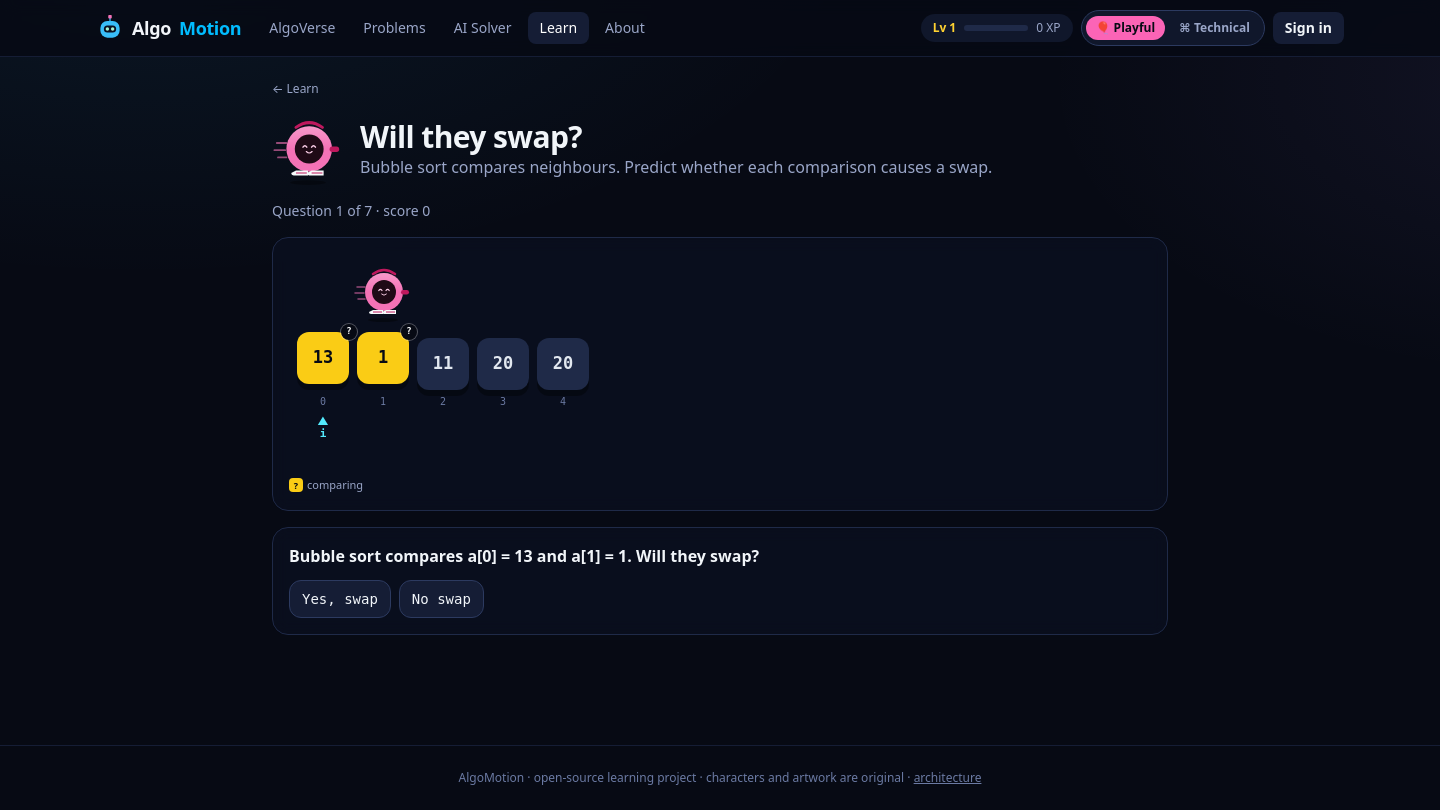
mini-challenges › validates answers and offers a retry
The image size is (1440, 810).
Check: the text with test id "challenge-prompt" shows "Will they swap?", box [289,544,759,566]
Click the button "Yes, swap": [340, 598] box [289,580,391,618]
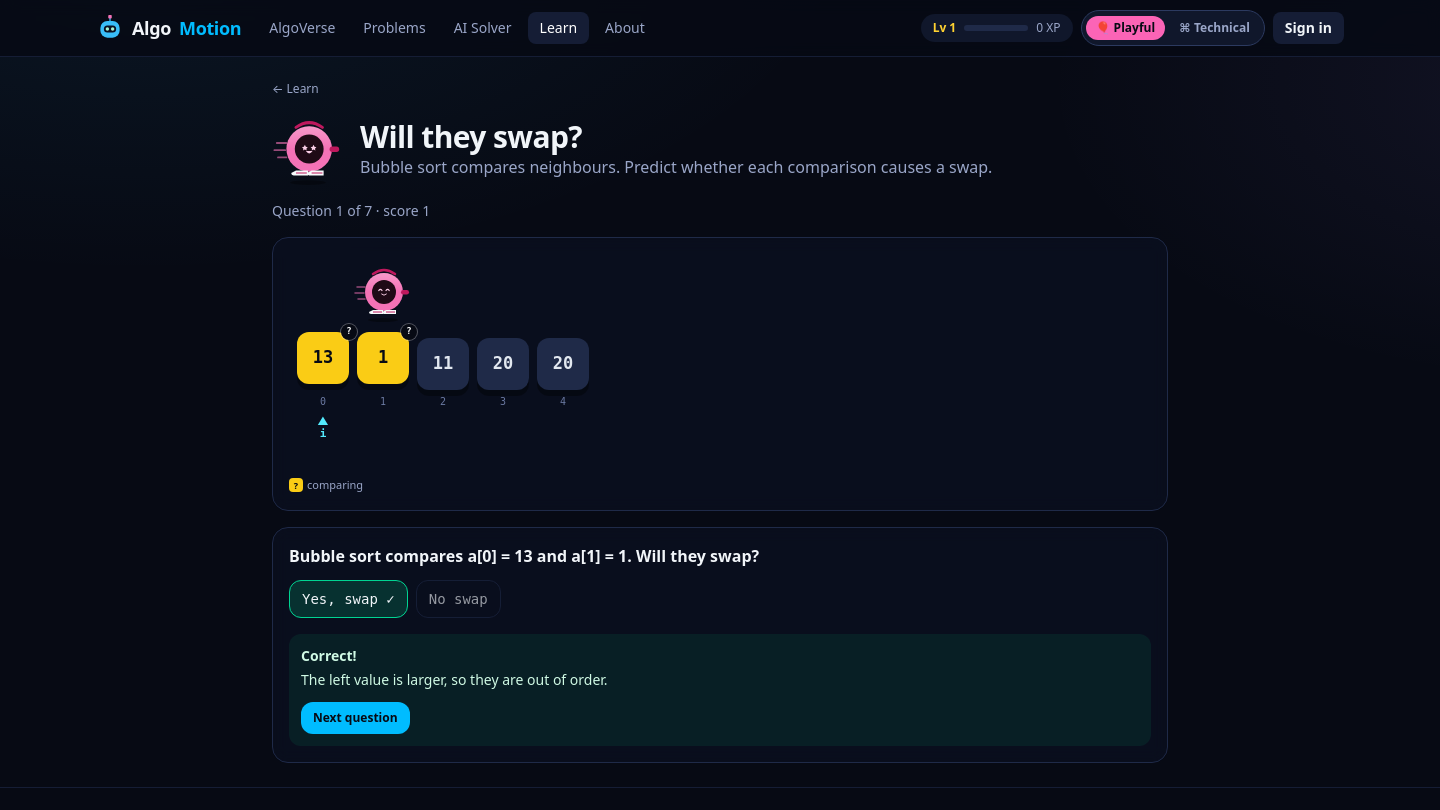
Check: the message "Correct! The left value is larger, so they are out of order. Next question" is shown, box [289,634,1151,746]
